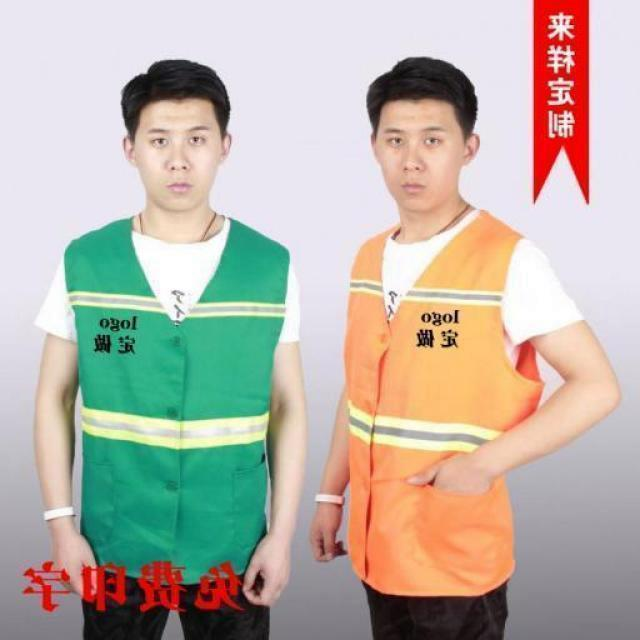vest: (66, 218, 273, 567), (356, 215, 524, 590)
